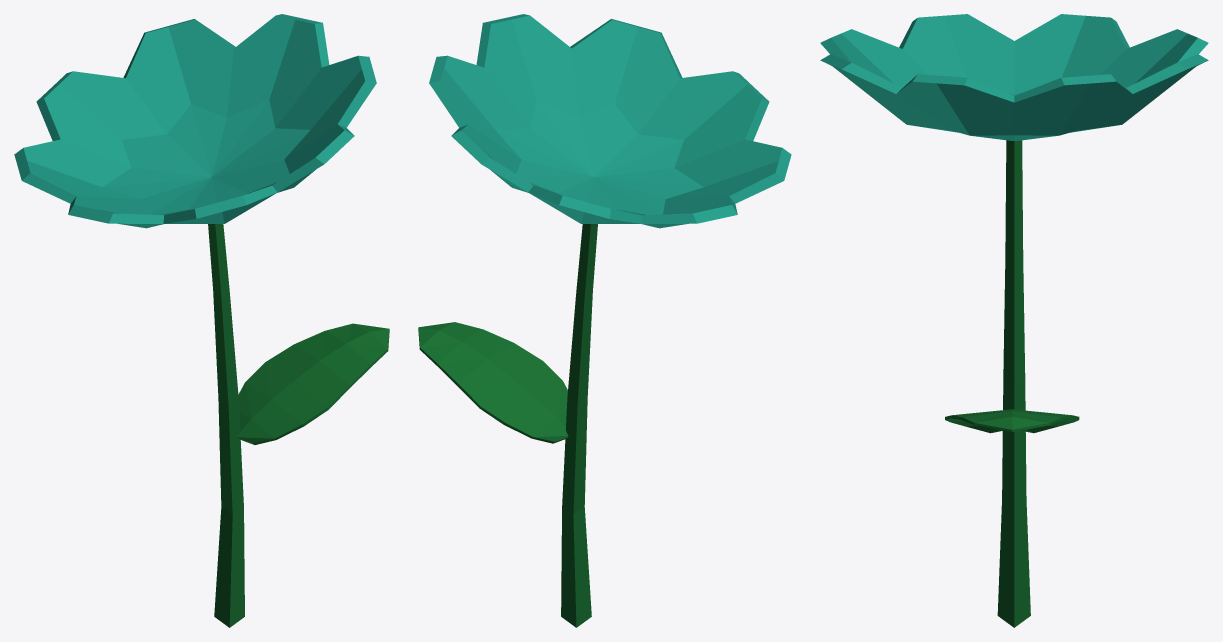
Rendered from Flower01_FBX.fbx.
3 renders of one model, left to right at view 1: azimuth 30°, elevation 25°; view 2: azimuth 150°, elevation 25°; view 3: azimuth 270°, elevation 25°, orthographic. The views are drawn at different scales.
Parts seen in each view (by area): view 1: Cylinder029, Cylinder030, Cylinder028; view 2: Cylinder029, Cylinder030, Cylinder028; view 3: Cylinder029, Cylinder028, Cylinder030.
Boxes of the visible parts, left/top/right/bottom form: Cylinder029: left=14, top=14, right=376, bottom=228; Cylinder030: left=237, top=323, right=389, bottom=444; Cylinder028: left=208, top=224, right=244, bottom=627; Cylinder029: left=429, top=14, right=791, bottom=228; Cylinder030: left=418, top=322, right=568, bottom=443; Cylinder028: left=561, top=224, right=597, bottom=627; Cylinder029: left=820, top=14, right=1208, bottom=140; Cylinder028: left=997, top=140, right=1030, bottom=627; Cylinder030: left=945, top=409, right=1079, bottom=433.
Bounding box in the file's own units: 36.74 × 56.63 × 33.35.
